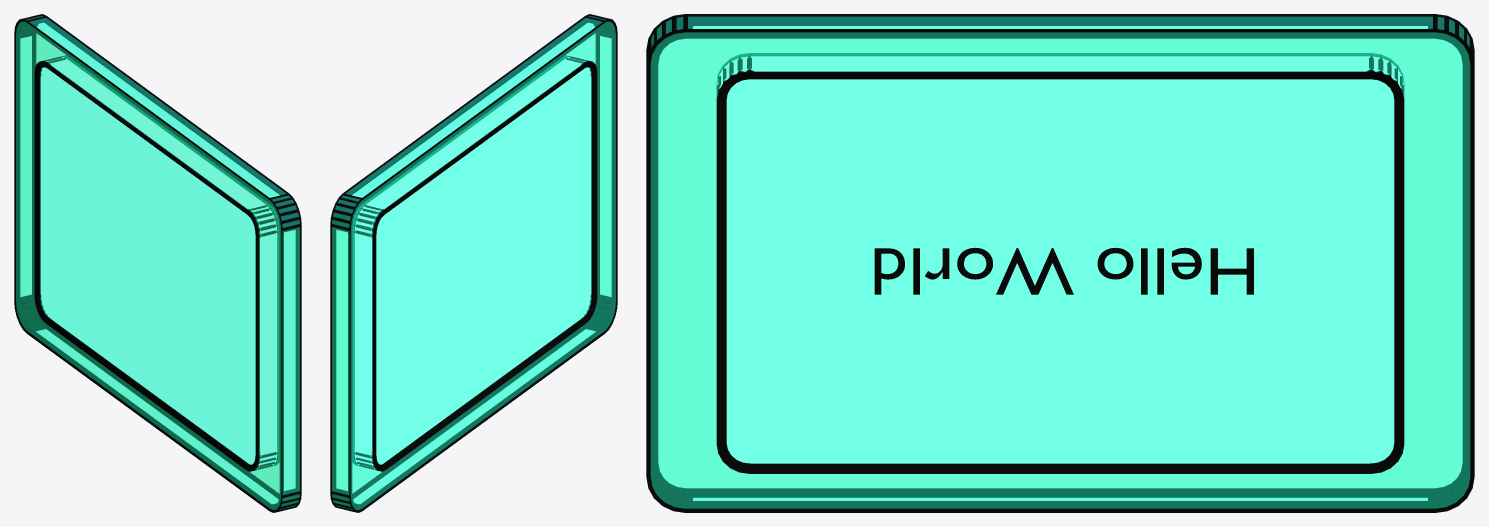
File: emissive inner_nk1.fbx
3 renders of one model, left to right at view 1: azimuth 30°, elevation 25°; view 2: azimuth 150°, elevation 25°; view 3: azimuth 270°, elevation 25°, orthographic. The views are drawn at different scales.
Parts seen in each view (by area): view 1: State1: Translucent Design.001; view 2: State1: Translucent Design.001; view 3: State1: Translucent Design.001.
Part boxes in pixels (left/top/right/bottom): State1: Translucent Design.001: left=14, top=14, right=301, bottom=512; State1: Translucent Design.001: left=330, top=14, right=617, bottom=512; State1: Translucent Design.001: left=646, top=14, right=1474, bottom=512.
Bounding box in the file's own units: 0.5836 × 7.13 × 11.05.
